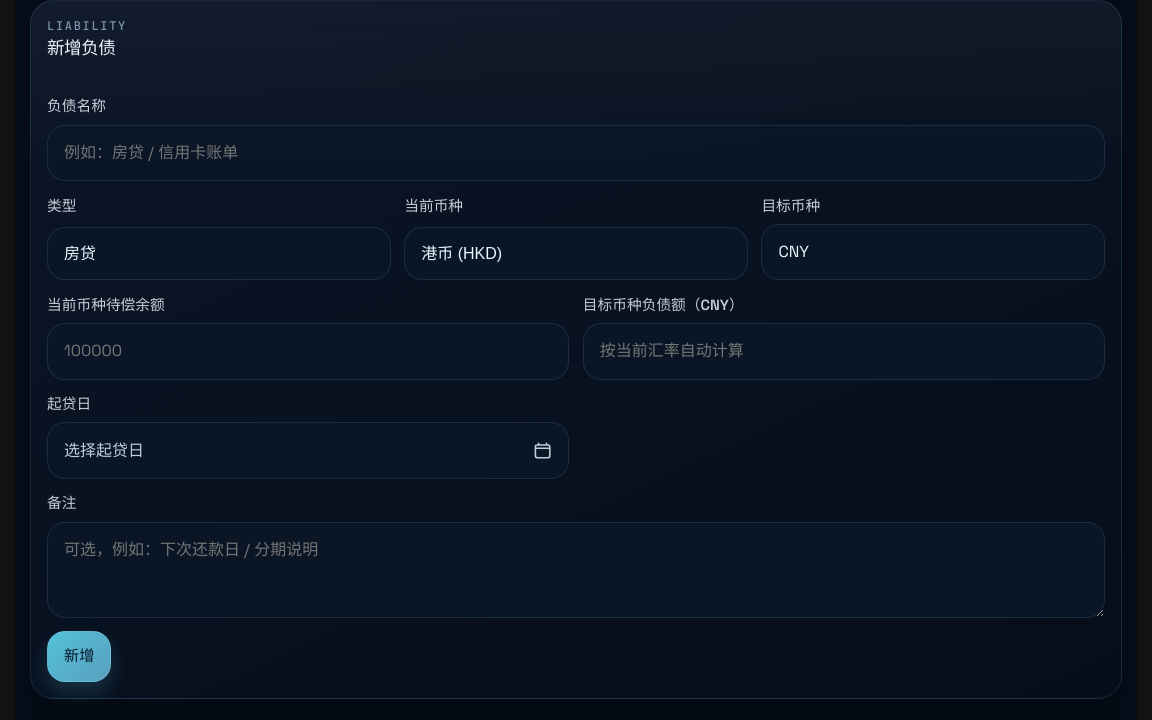
LiabilityForm › uses a currency selector and shows readonly cny liability preview
Type "50" into the number field labelled "当前币种待偿余额" at (308, 351), box [47,323,569,380]
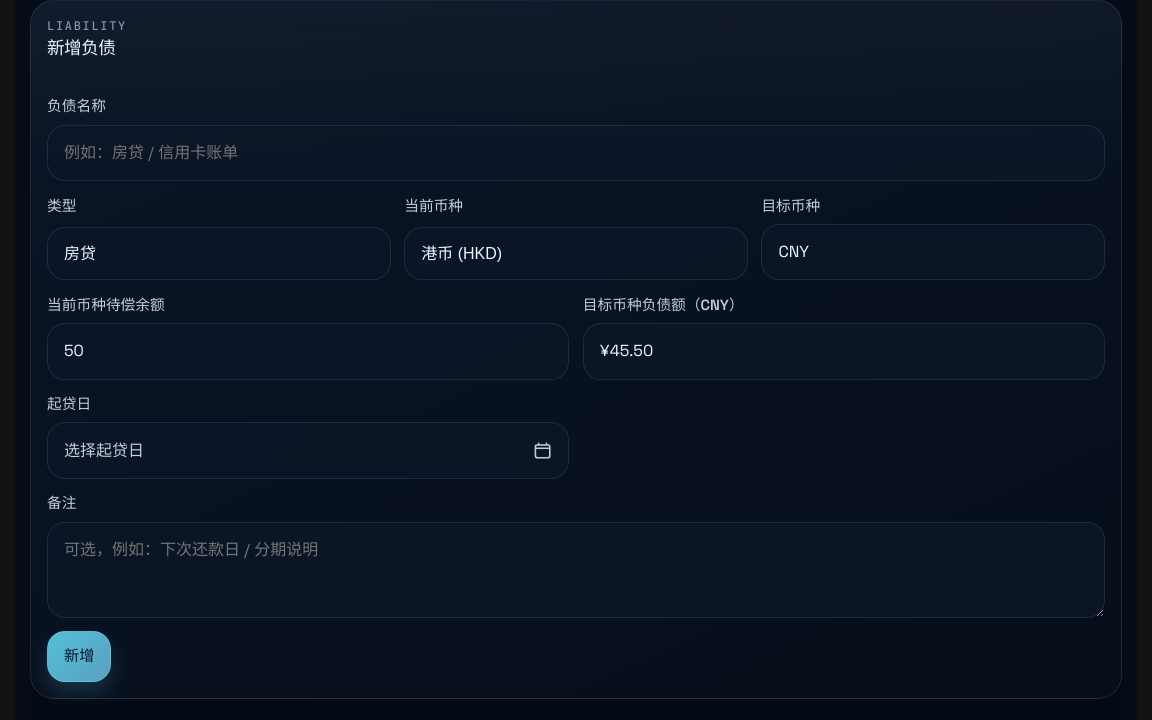
Expected: the dropdown labelled "当前币种" shows "港币 (HKD)", [404,227,748,280]
Now the field labelled "目标币种负债额（CNY）" holds "¥45.50", box [583,323,1105,380]
